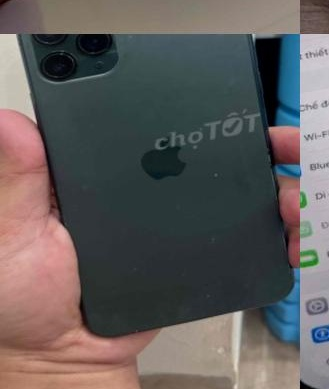scratch: (196, 284, 234, 310), (205, 165, 229, 190), (125, 34, 142, 51)
